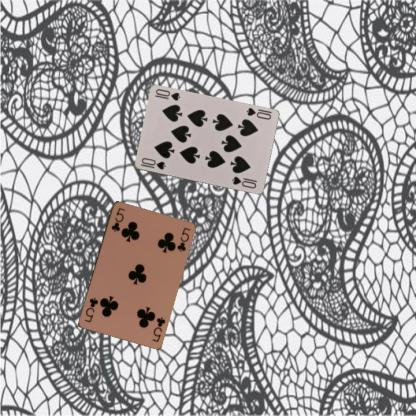10s: (243, 105, 272, 121), (138, 155, 166, 171)
5c: (149, 314, 166, 344), (108, 205, 126, 233)
